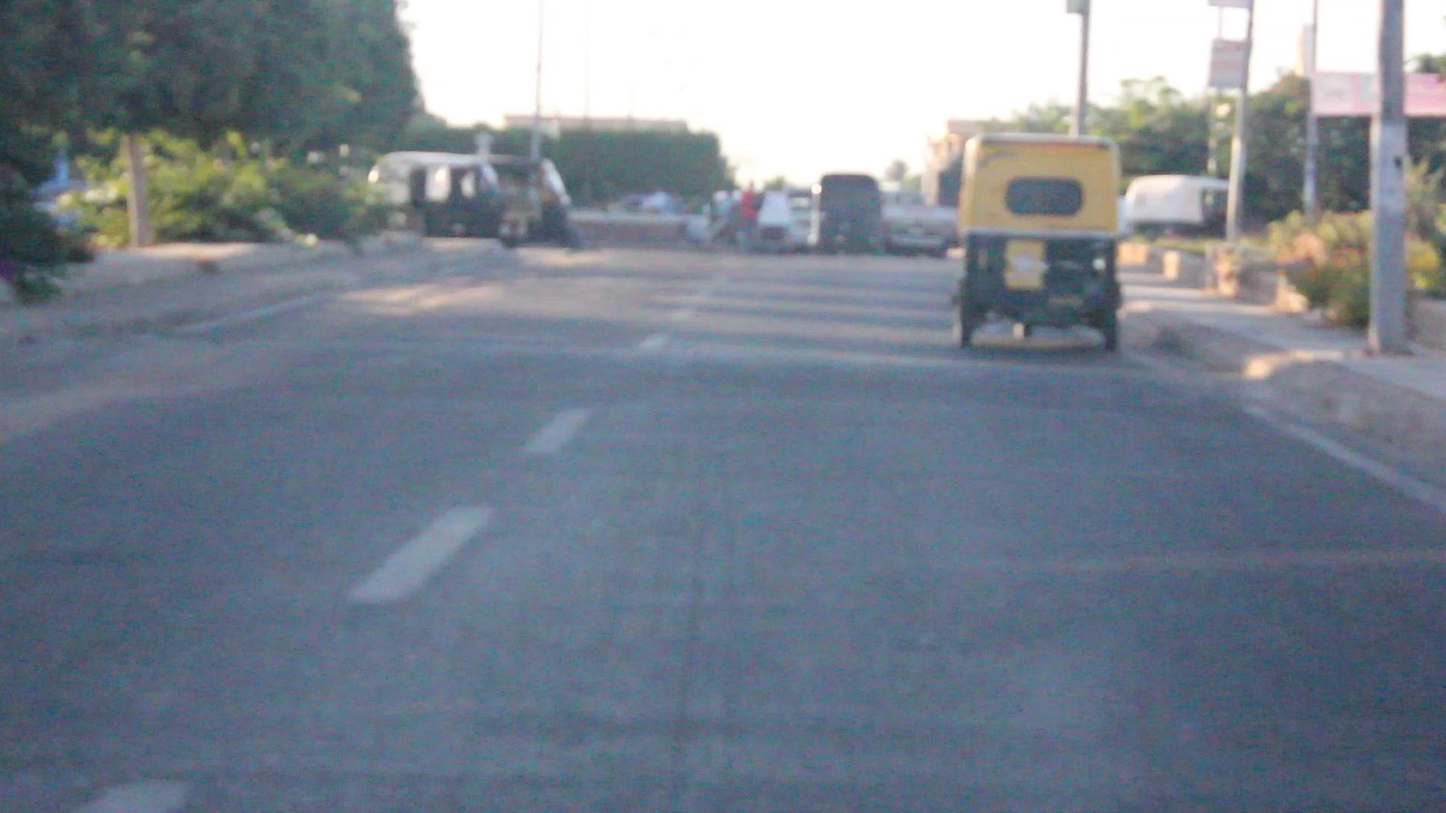Bump: (23, 330, 1304, 412)
